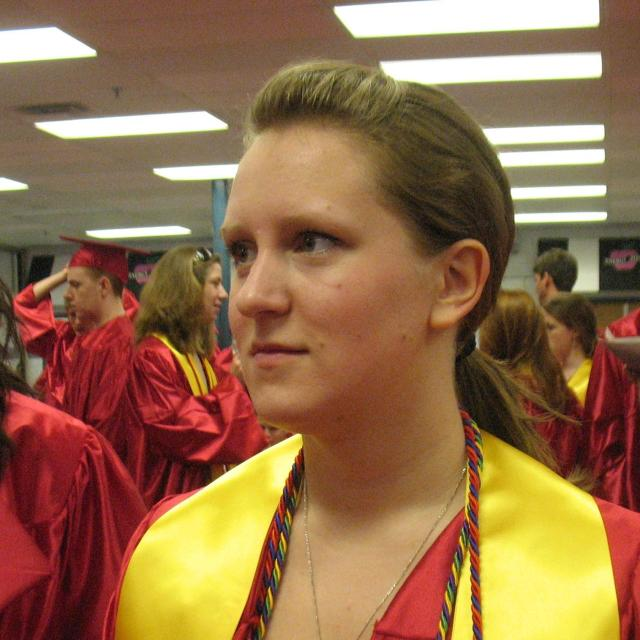no-glass: (226, 230, 345, 268)
